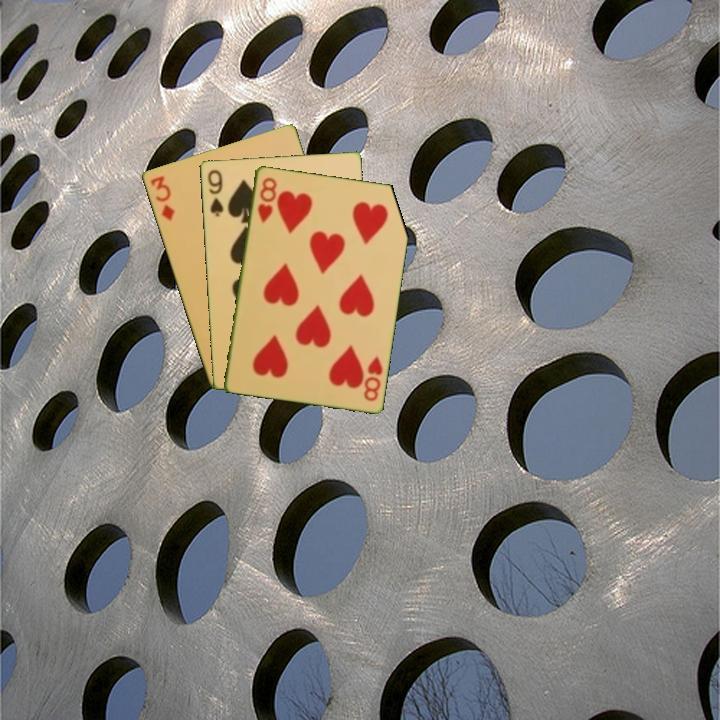3d: (146, 172, 177, 223)
8h: (254, 173, 279, 226), (360, 353, 385, 404)
9s: (204, 166, 226, 219)
